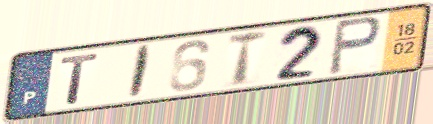2: (269, 21, 329, 86)
6: (166, 38, 212, 93)
I: (125, 42, 155, 101)
P: (325, 14, 384, 77)
T: (225, 27, 270, 88), (58, 51, 102, 107)
